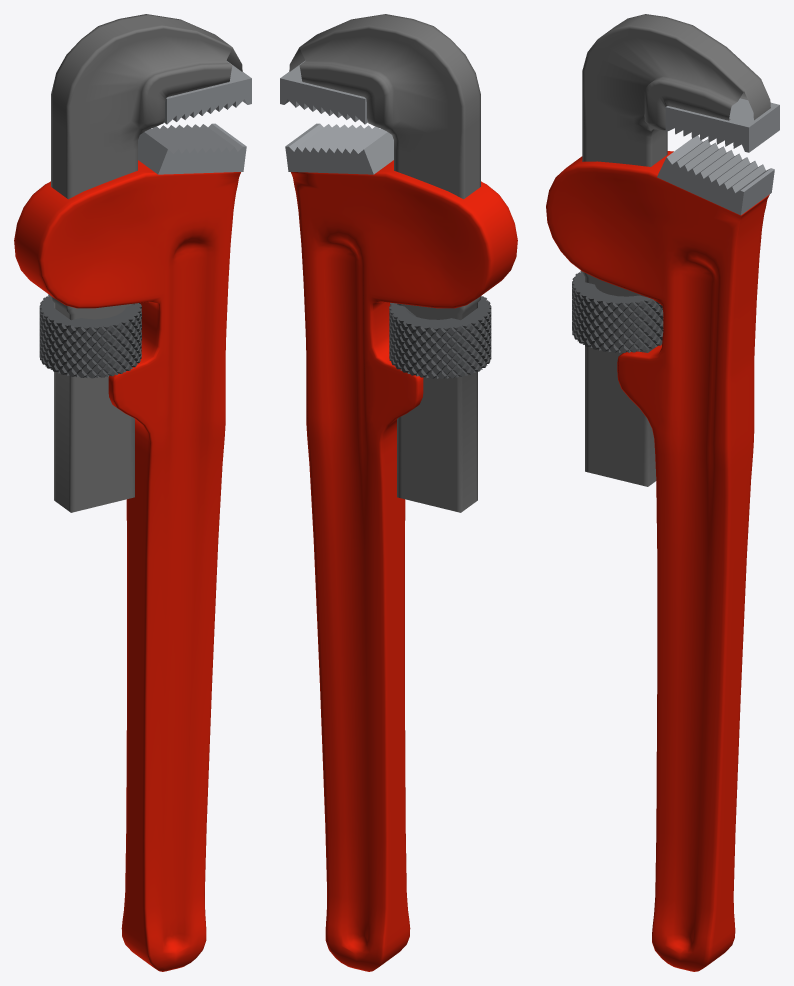
Rendered from pipe_wrench(2).gltf.
3 renders of one model, left to right at view 1: azimuth 30°, elevation 25°; view 2: azimuth 150°, elevation 25°; view 3: azimuth 330°, elevation 25°, orthographic.
Parts seen in each view (by area): view 1: Wrench_Body, Wrench_Top, Wrench_Nut, Wrench_Teeth_Bottom, Wrench_Teeth_Top; view 2: Wrench_Body, Wrench_Top, Wrench_Nut, Wrench_Teeth_Bottom, Wrench_Teeth_Top; view 3: Wrench_Body, Wrench_Top, Wrench_Teeth_Bottom, Wrench_Nut, Wrench_Teeth_Top.
Part boxes in pixels (<box>): Wrench_Body: <box>14,160,240,971</box>; Wrench_Top: <box>51,14,242,512</box>; Wrench_Nut: <box>39,294,141,378</box>; Wrench_Teeth_Bottom: <box>138,123,246,174</box>; Wrench_Teeth_Top: <box>164,60,251,124</box>; Wrench_Body: <box>291,160,517,971</box>; Wrench_Top: <box>289,14,480,512</box>; Wrench_Nut: <box>389,296,491,378</box>; Wrench_Teeth_Bottom: <box>285,123,393,174</box>; Wrench_Teeth_Top: <box>280,60,367,124</box>; Wrench_Body: <box>546,151,769,971</box>; Wrench_Top: <box>582,14,770,486</box>; Wrench_Teeth_Bottom: <box>657,135,774,215</box>; Wrench_Nut: <box>572,270,663,352</box>; Wrench_Teeth_Top: <box>665,98,779,152</box>.
Size of the model in its own units: 0.7408 by 3.2 by 0.3136.
